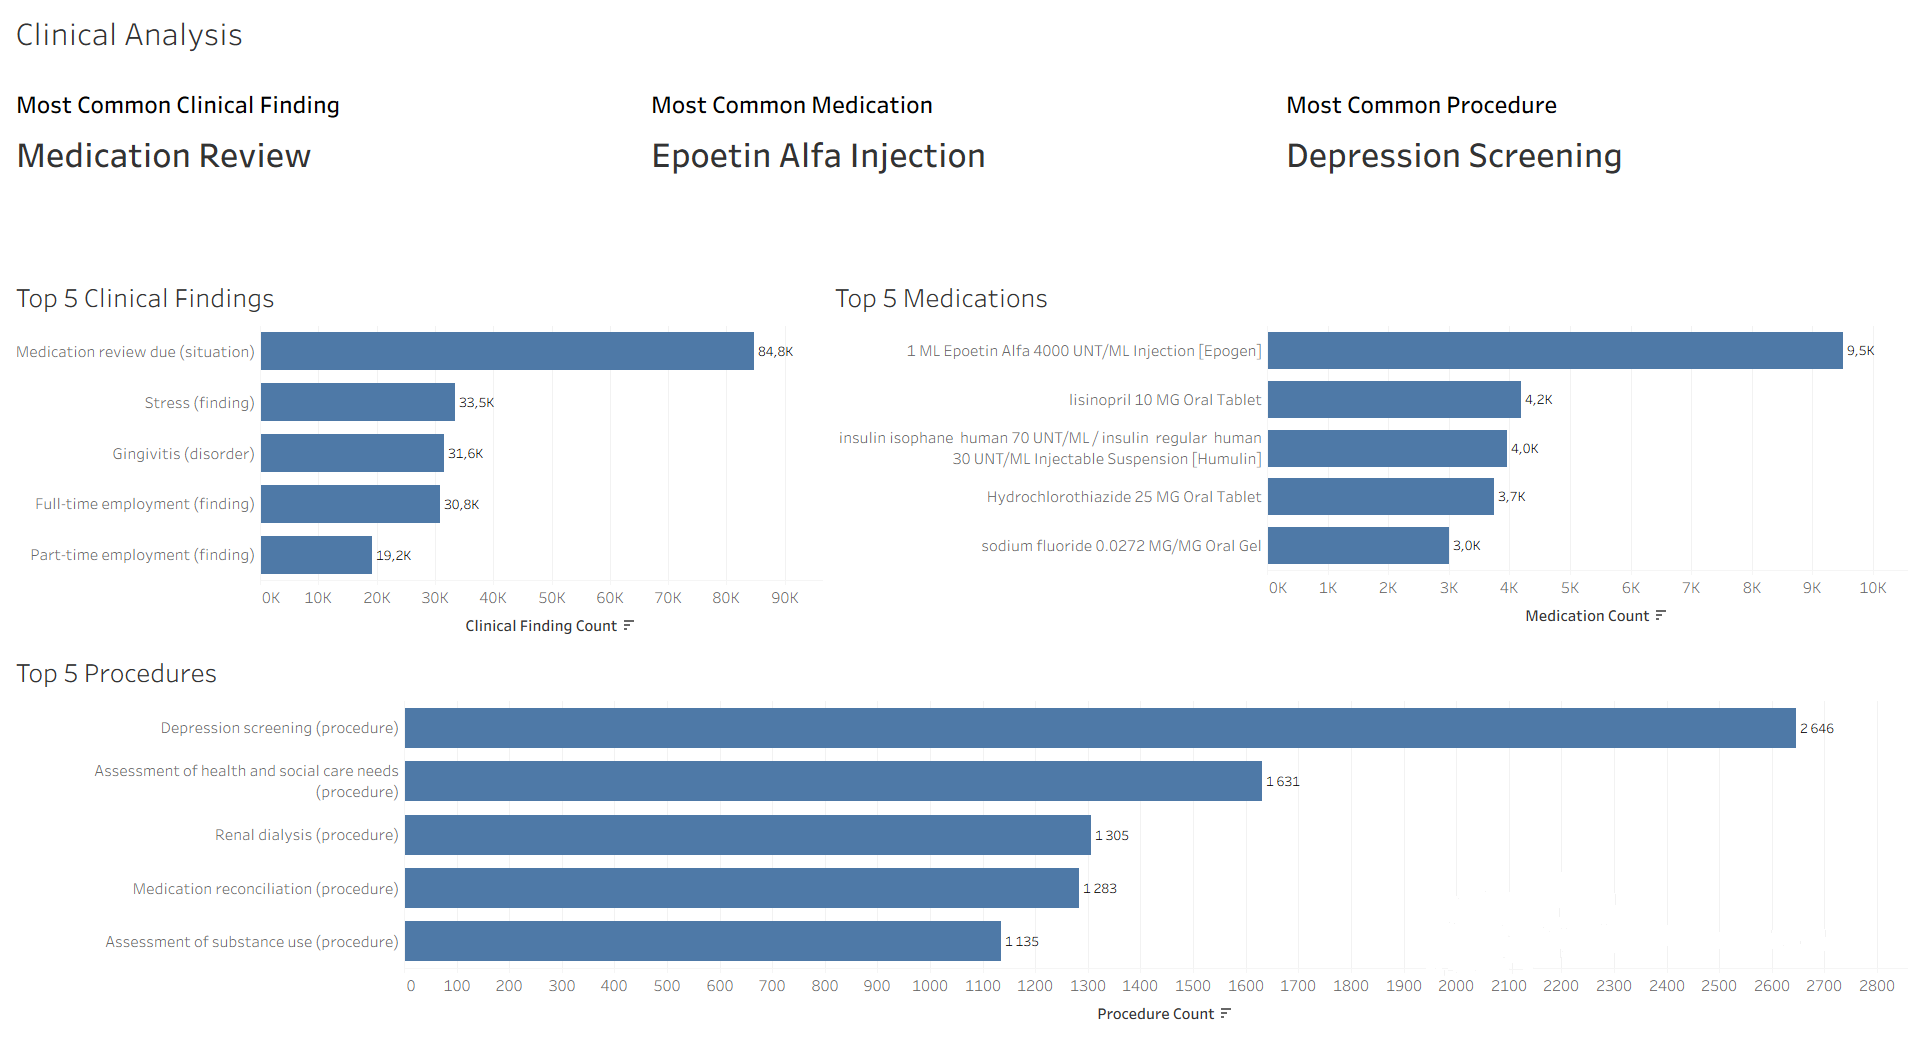

Layout of this report page (visuals, bound fields, positions):
{"tool":"tableau","page":{"name":"Clinical Analysis","canvas":[1000,1000],"units":"permille","ordinal":0},"visuals":[{"type":"title","box":[4.8,9.4,990.3,58.8]},{"type":"worksheet","title":"KPI - Most Common Clinical Finding","mark":"Automatic","box":[4.8,68.2,330.1,202.1]},{"type":"worksheet","title":"KPI - Most Common Medication","mark":"Automatic","box":[334.9,68.2,330.1,202.1]},{"type":"worksheet","title":"KPI - Most Common Procedure","mark":"Automatic","box":[665.1,68.2,330.1,202.1]},{"type":"worksheet","title":"Top 5 Clinical Findings","mark":"Automatic","rows":["condition_description"],"cols":["condition_count"],"box":[4.8,270.2,426.1,353.7]},{"type":"worksheet","title":"Top 5 Medications","mark":"Automatic","rows":["medication_description"],"cols":["medication_count"],"box":[430.9,270.2,564.3,353.7]},{"type":"worksheet","title":"Top 5 Procedures","mark":"Automatic","rows":["procedure_description"],"cols":["procedure_count"],"box":[4.8,623.9,990.3,366.7]}]}

Visuals, with their boxes on the dashboard's canvas, which has no fixed pixel size, in thousandths of its width and height (x1, y1, x2, y2). These are canvas units, not pixel positions in the 1919x1042 screenshot, which may show the page scaled, cropped or inside an application window:
title: select_region(5, 9, 995, 68)
"KPI - Most Common Clinical Finding" worksheet: select_region(5, 68, 335, 270)
"KPI - Most Common Medication" worksheet: select_region(335, 68, 665, 270)
"KPI - Most Common Procedure" worksheet: select_region(665, 68, 995, 270)
"Top 5 Clinical Findings" worksheet: select_region(5, 270, 431, 624)
"Top 5 Medications" worksheet: select_region(431, 270, 995, 624)
"Top 5 Procedures" worksheet: select_region(5, 624, 995, 991)
